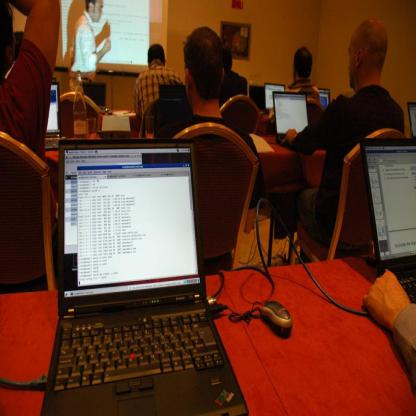board: (37, 132, 240, 410), (360, 140, 416, 302), (273, 91, 308, 150), (46, 82, 66, 152), (75, 70, 90, 142), (266, 83, 285, 112), (407, 101, 416, 139), (316, 88, 330, 108)
